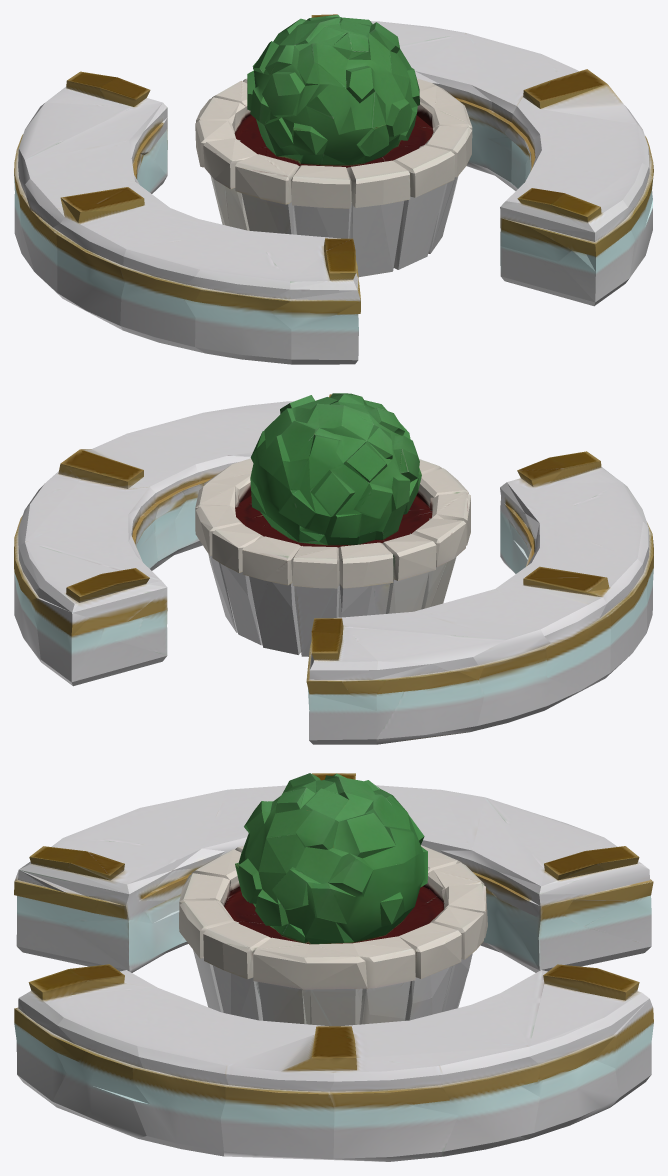
File: bench.glb
3 views of the same model, one above another, from view 1: azimuth 30°, elevation 25°; view 2: azimuth 150°, elevation 25°; view 3: azimuth 270°, elevation 25° (orthographic). The views are drawn at different scales.
Bounding box in the file's own units: 1.9 × 0.693 × 1.71.
1 material, 1 textured.
